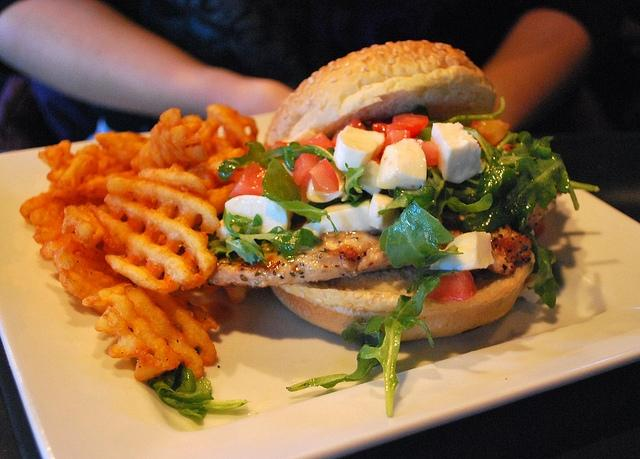lettuce: (287, 275, 440, 417), (378, 199, 464, 270), (261, 159, 339, 236), (147, 363, 247, 421), (223, 207, 323, 265), (522, 226, 561, 308), (218, 140, 286, 182), (481, 152, 515, 198), (439, 193, 493, 216)
tomato: (426, 270, 478, 300), (229, 162, 267, 198), (470, 118, 510, 146), (309, 157, 339, 192), (331, 118, 366, 146), (294, 153, 322, 186), (392, 113, 429, 136), (380, 129, 410, 154), (296, 132, 336, 150), (386, 123, 417, 138), (421, 141, 439, 166), (372, 123, 389, 136)
